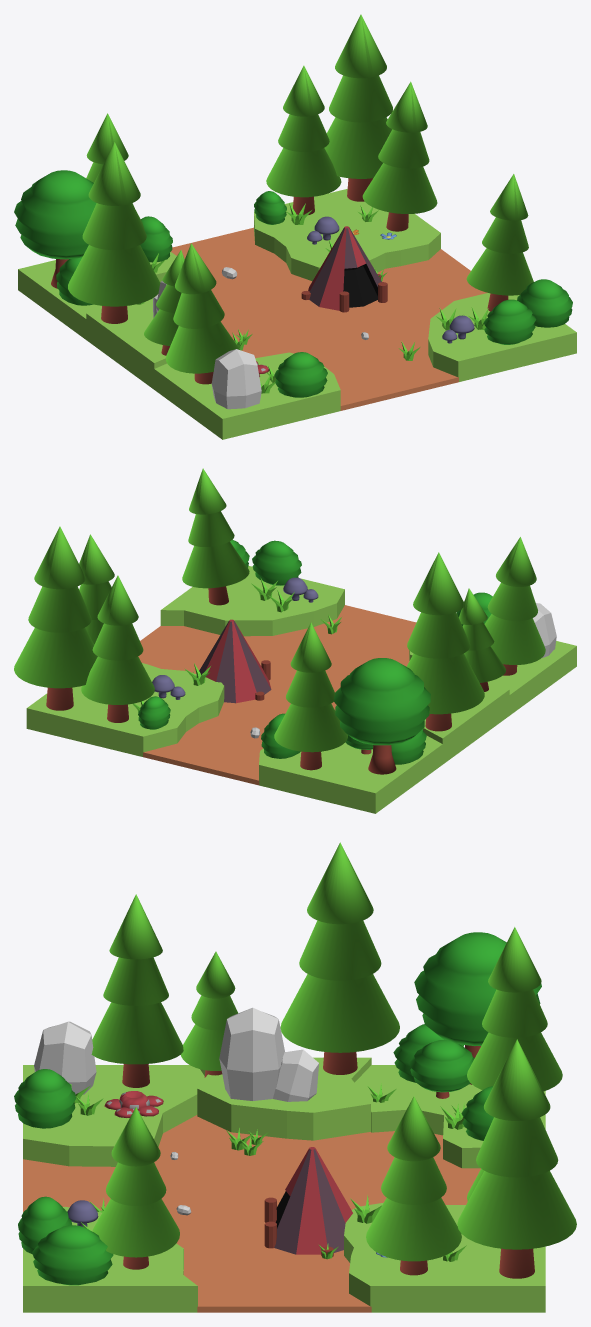
The model's file is jungle level set - 3 Way (4).fbx.
3 renders of one model, top to bottom at view 1: azimuth 30°, elevation 25°; view 2: azimuth 150°, elevation 25°; view 3: azimuth 270°, elevation 25°, orthographic. The views are drawn at different scales.
Parts seen in each view (by area): view 1: land_platform, tree_008, tree_001, tree_002, tree, tree_003, tree_005, tree_006, camp, stone_004, bush_005, bush (+6 smaller); view 2: land_platform, tree_001, tree_008, tree_003, tree, tree_007, tree_005, tree_006, camp, tree_009, tree_002, bush_004 (+4 smaller); view 3: land_platform, tree_001, tree_008, tree_005, tree_002, tree_006, tree_007, tree_003, camp, stone, tree_009, bush (+9 smaller).
Part boxes in pixels (x1,y1,x2,y2): land_platform: [18, 189, 576, 439]; tree_008: [68, 142, 160, 323]; tree_001: [324, 14, 392, 201]; tree_002: [362, 81, 437, 231]; tree: [266, 65, 341, 214]; tree_003: [14, 170, 96, 288]; tree_005: [165, 243, 239, 384]; tree_006: [466, 174, 533, 311]; camp: [301, 226, 387, 312]; stone_004: [211, 349, 261, 409]; bush_005: [274, 352, 327, 397]; bush: [517, 279, 572, 327]; land_platform: [26, 565, 576, 813]; tree_001: [14, 526, 97, 710]; tree_008: [406, 552, 484, 731]; tree_003: [334, 658, 430, 774]; tree: [81, 575, 154, 722]; tree_007: [274, 622, 347, 770]; tree_005: [484, 537, 545, 675]; tree_006: [182, 468, 249, 605]; camp: [199, 619, 271, 703]; tree_009: [459, 588, 505, 691]; tree_002: [79, 534, 114, 644]; bush_004: [252, 540, 301, 585]; land_platform: [23, 1057, 545, 1312]; tree_001: [457, 1039, 576, 1278]; tree_008: [280, 842, 399, 1074]; tree_005: [91, 894, 183, 1087]; tree_002: [366, 1096, 461, 1275]; tree_006: [92, 1107, 179, 1269]; tree_007: [467, 927, 562, 1091]; tree_003: [414, 932, 541, 1084]; camp: [264, 1147, 352, 1256]; stone: [219, 1007, 284, 1100]; tree_009: [181, 951, 237, 1077]; bush: [32, 1225, 113, 1285].
Size of the model in its own units: 16.99 by 8.5 by 16.34.
